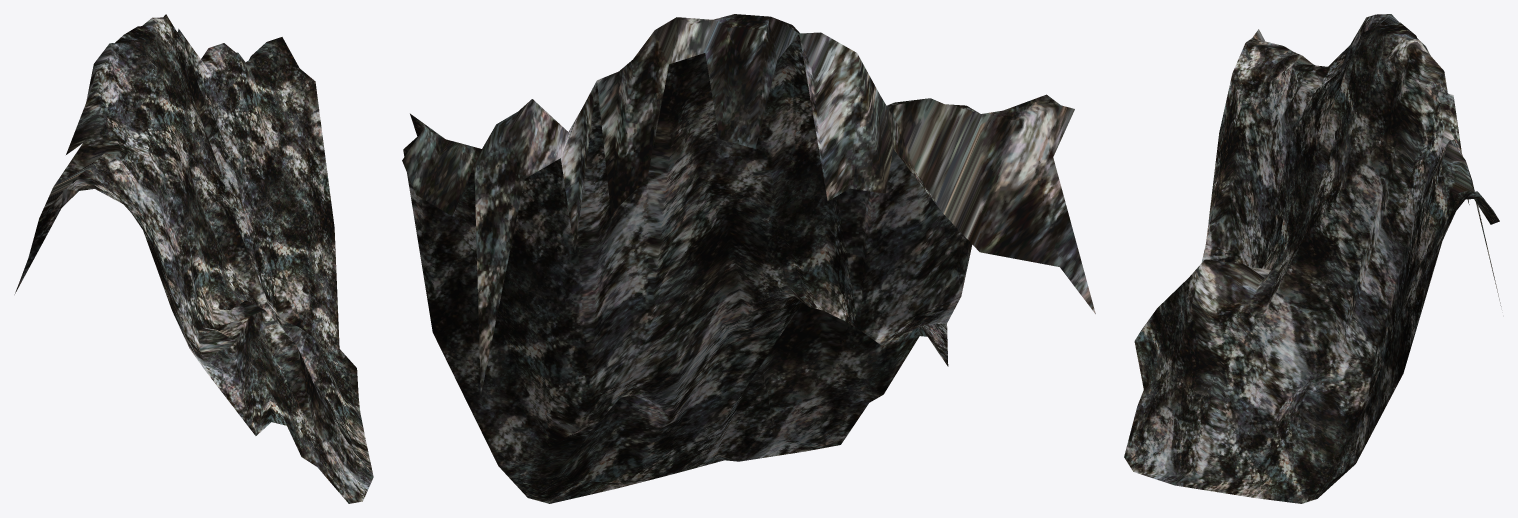
Rendered from OVERHILL_A_01_MOUN1_OBJECT153.fbx.
3 views of the same model, side by side, from view 1: azimuth 30°, elevation 25°; view 2: azimuth 150°, elevation 25°; view 3: azimuth 270°, elevation 25° (orthographic). The views are drawn at different scales.
Parts seen in each view (by area): view 1: OVERHILL_A_01_MOUN1_OBJECT153; view 2: OVERHILL_A_01_MOUN1_OBJECT153; view 3: OVERHILL_A_01_MOUN1_OBJECT153.
Part boxes in pixels (bbox=[...]): OVERHILL_A_01_MOUN1_OBJECT153: bbox=[14, 14, 373, 503]; OVERHILL_A_01_MOUN1_OBJECT153: bbox=[402, 14, 1095, 503]; OVERHILL_A_01_MOUN1_OBJECT153: bbox=[1124, 14, 1501, 503].
Size of the model in its own units: 340250 by 344030 by 297487.
1 material, 1 textured.
